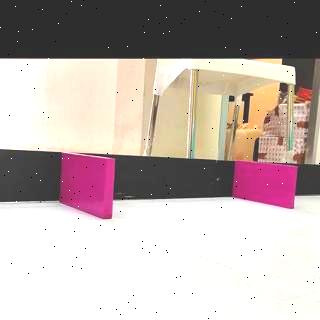xparking: (63, 159, 113, 219), (238, 168, 294, 204)
